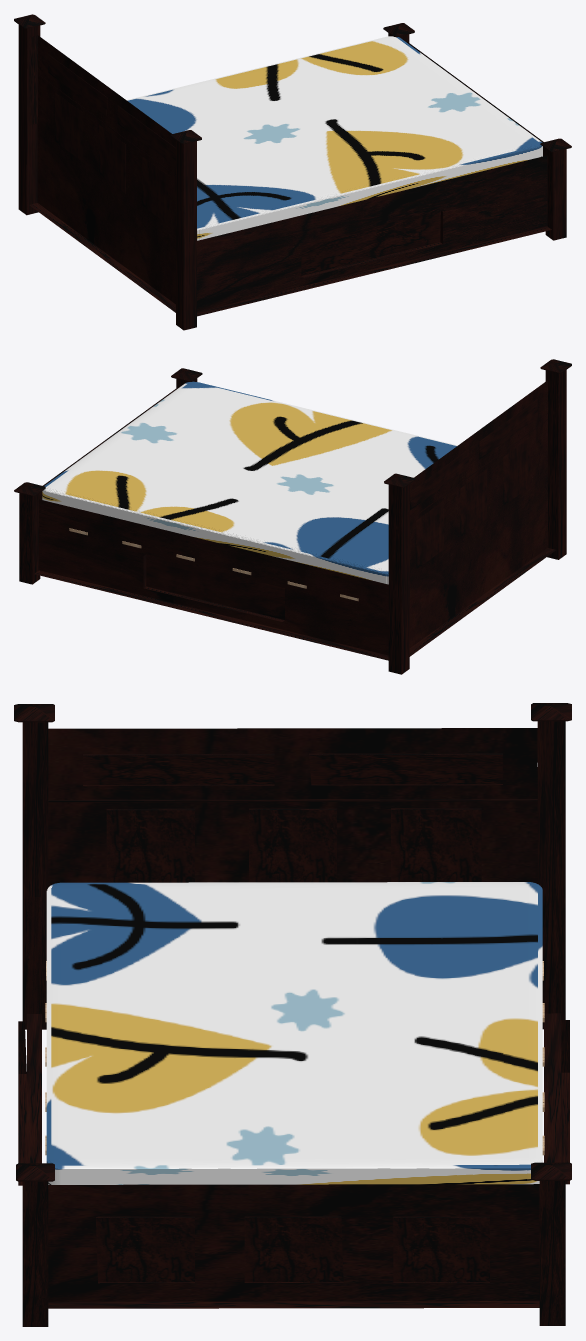
3 views of the same model, one above another, from view 1: azimuth 30°, elevation 25°; view 2: azimuth 150°, elevation 25°; view 3: azimuth 270°, elevation 25° (orthographic). The views are drawn at different scales.
Visible parts, largest first — view 1: Cube.018; view 2: Cube.018; view 3: Cube.018.
Boxes of the visible parts, x1,y1,x2,y2 form: Cube.018: (14,14,571,330); Cube.018: (14,359,571,674); Cube.018: (14,703,571,1326).
Bounding box in the file's own units: 43.71 × 20.71 × 32.83.
Materials: 3 (3 with a texture image).
